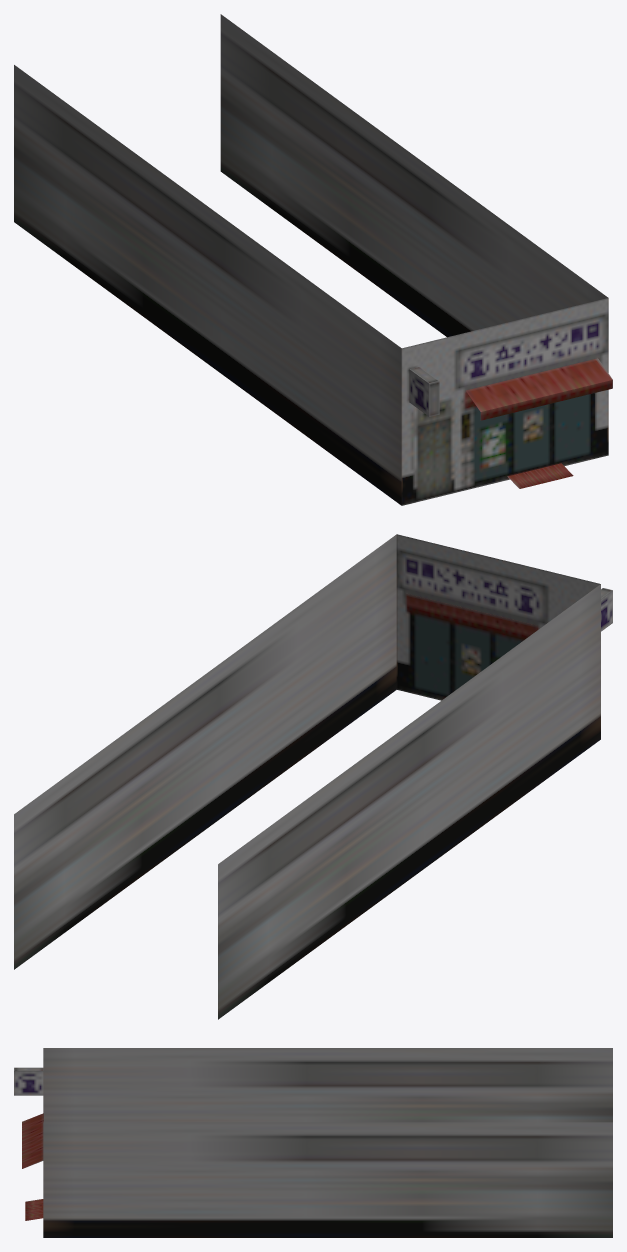
Rendered from w20_bldg1f_b.fbx.
3 views of the same model, one above another, from view 1: azimuth 30°, elevation 25°; view 2: azimuth 150°, elevation 25°; view 3: azimuth 270°, elevation 25° (orthographic). The views are drawn at different scales.
Visible parts, largest first — view 1: w20_bldg1f_B; view 2: w20_bldg1f_B; view 3: w20_bldg1f_B.
Part boxes in pixels (x1,y1,x2,y2): w20_bldg1f_B: (14, 14, 612, 505); w20_bldg1f_B: (14, 534, 612, 1019); w20_bldg1f_B: (14, 1048, 612, 1237).
Size of the model in its own units: 802 by 584 by 2739.
